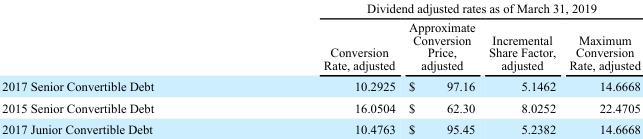table: (1, 0, 639, 135)
table column: (1, 0, 238, 135), (238, 0, 401, 135), (401, 0, 481, 135), (481, 0, 561, 135), (561, 0, 639, 135)
table column header: (1, 0, 639, 75)
table row: (1, 17, 639, 75), (1, 96, 639, 118), (1, 75, 639, 96), (1, 0, 639, 17), (1, 118, 639, 135)
table spanning cell: (238, 0, 639, 17)
